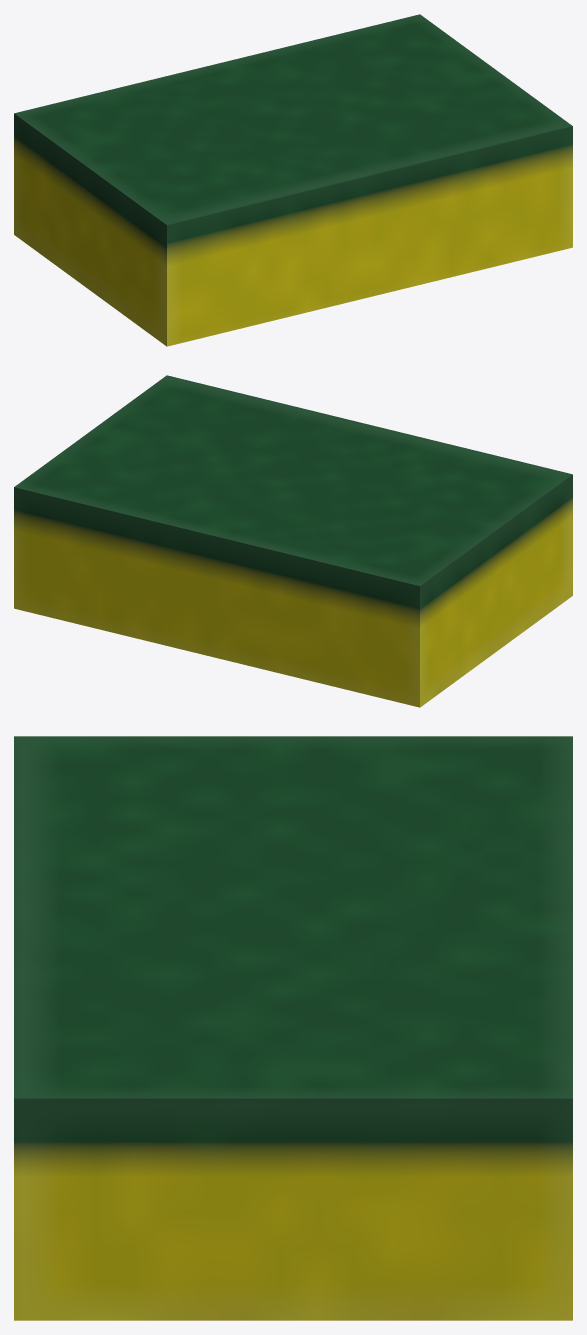
The model's file is KR_Sponge_01_01.fbx.
3 views of the same model, one above another, from view 1: azimuth 30°, elevation 25°; view 2: azimuth 150°, elevation 25°; view 3: azimuth 270°, elevation 25° (orthographic). The views are drawn at different scales.
Visible parts, largest first — view 1: kr_sponge_01_01; view 2: kr_sponge_01_01; view 3: kr_sponge_01_01.
Boxes of the visible parts, x1,y1,x2,y2 form: kr_sponge_01_01: [14, 14, 572, 346]; kr_sponge_01_01: [14, 375, 572, 707]; kr_sponge_01_01: [14, 736, 572, 1320].
Bounding box in the file's own units: 11.5 × 3.29 × 7.5.
